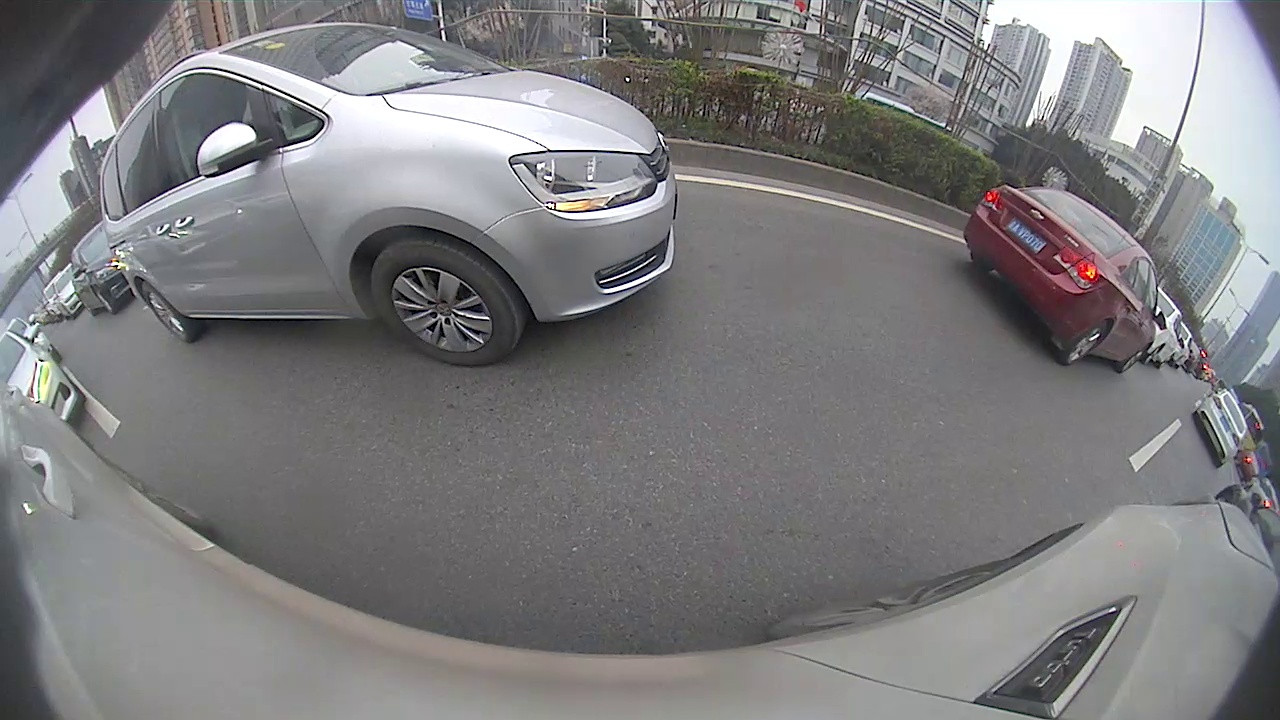car: (98, 21, 680, 369), (963, 185, 1169, 374), (70, 223, 134, 318), (1193, 388, 1250, 468)
front: (368, 238, 521, 364)
rear: (138, 281, 193, 343), (1059, 322, 1113, 364)
